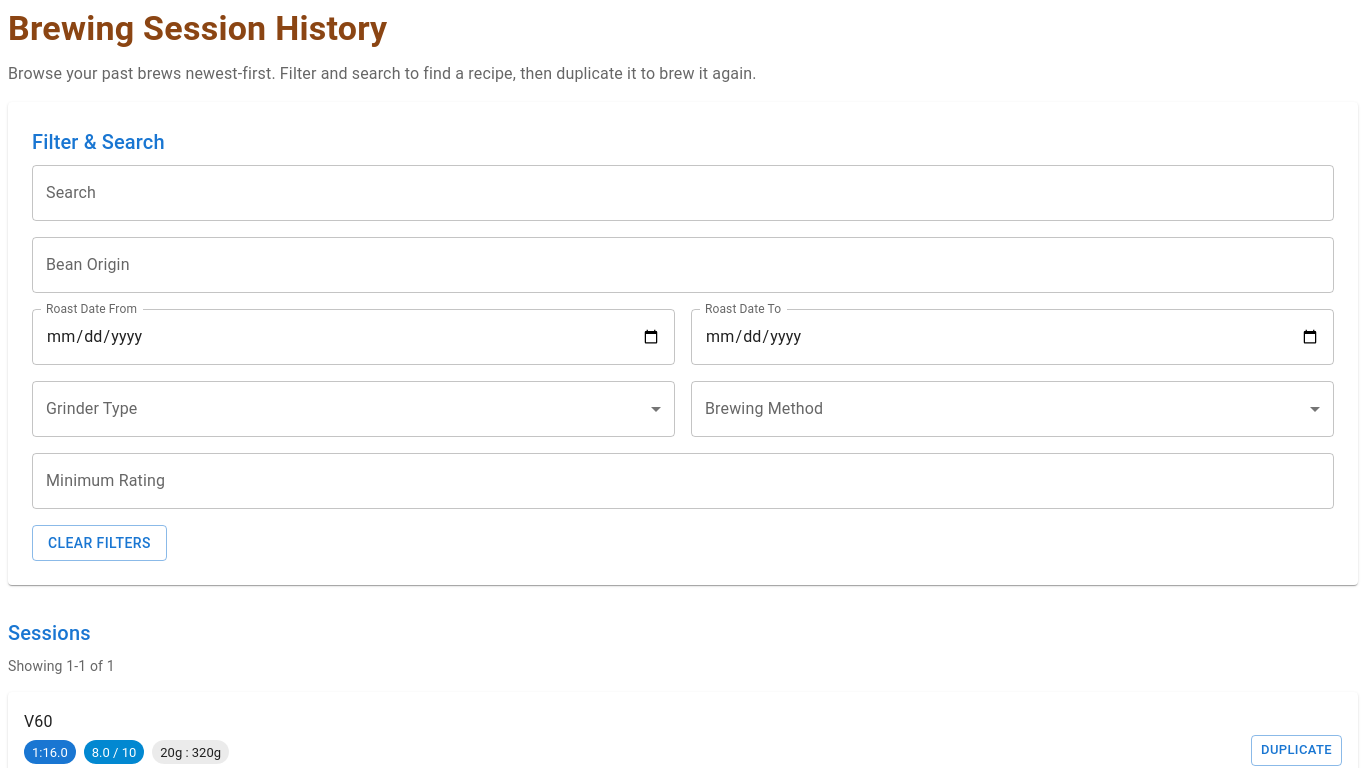
Test: SessionHistory › closes the success notice when dismissed
This screenshot has width=1366, height=768.
expect the heading "V60" is shown: met, box left=24, top=712, right=53, bottom=731
Click the button "Duplicate" at coordinates (1296, 750), box left=1251, top=735, right=1342, bottom=766
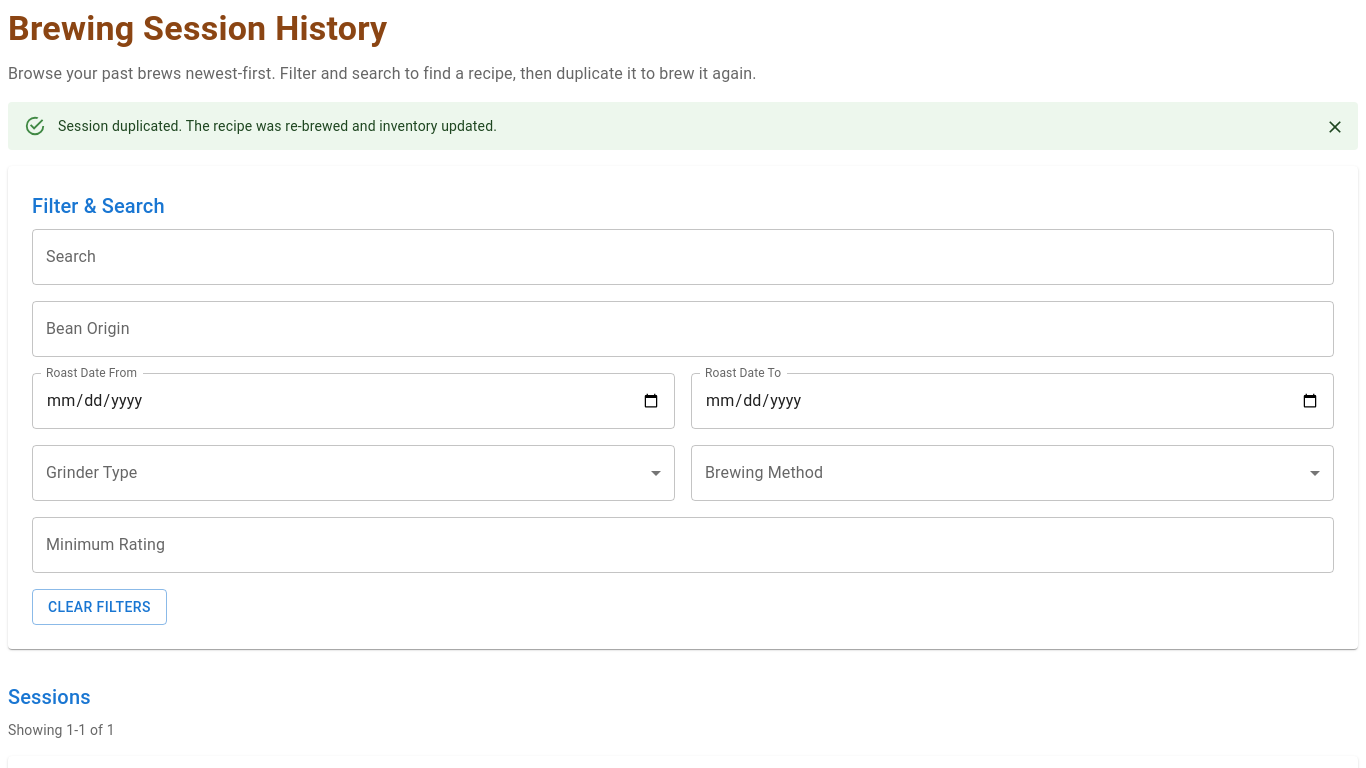
Click the button named "Close" at coordinates (1335, 127), box left=1320, top=112, right=1350, bottom=142
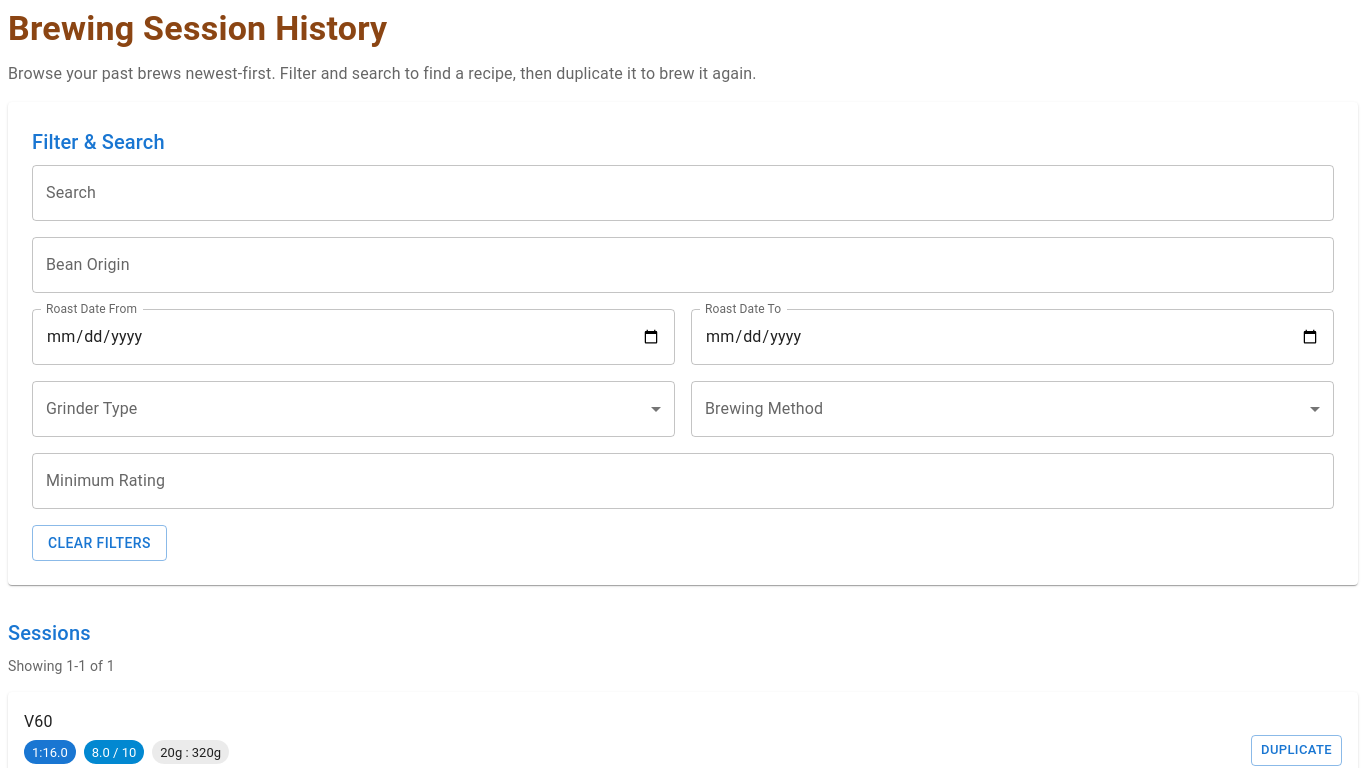
expect the text "Session duplicated" is gone: met
